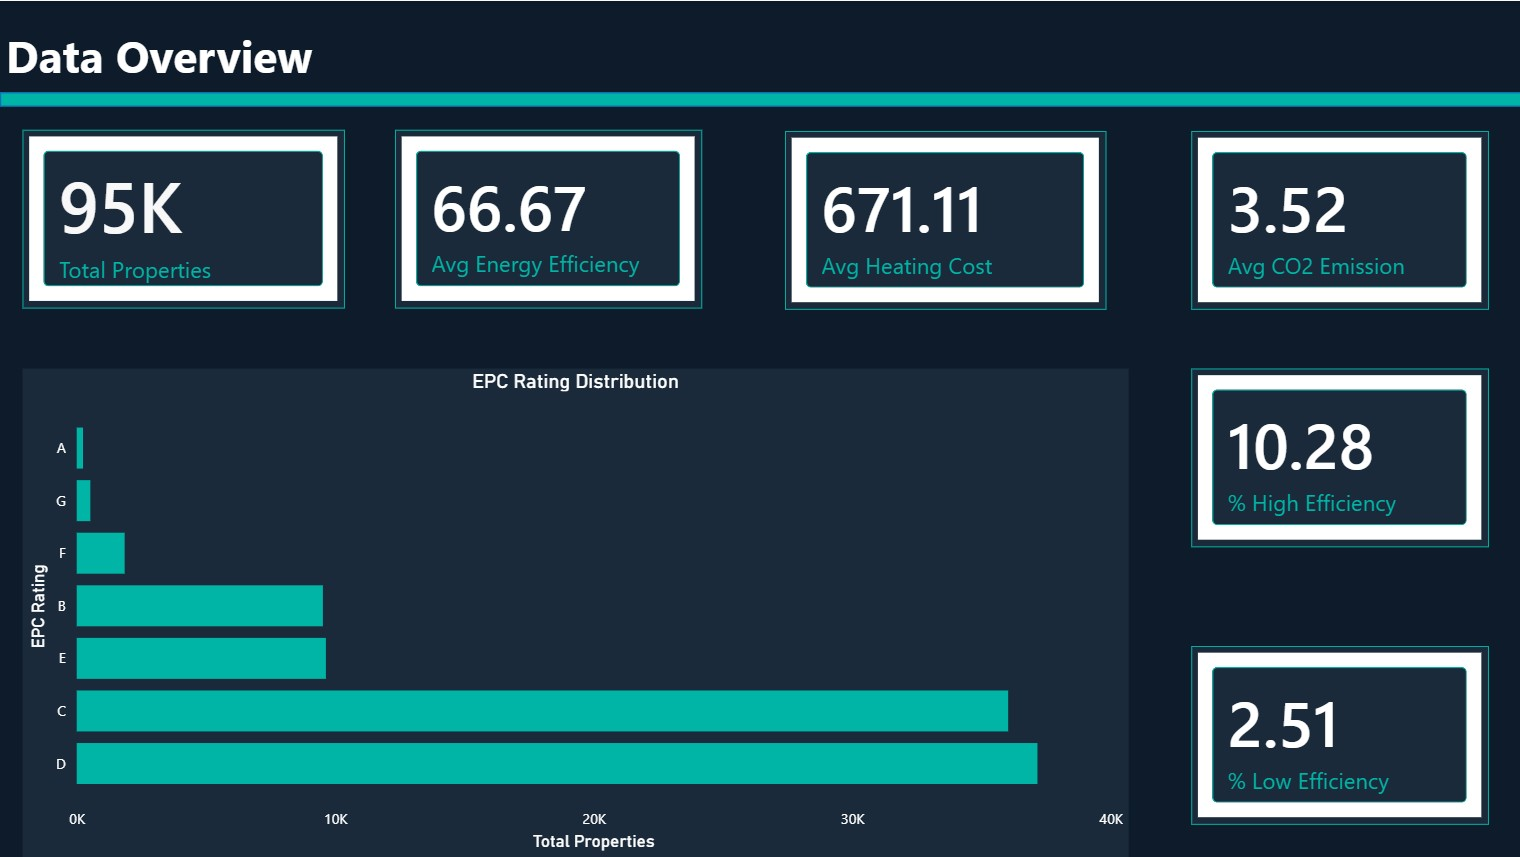

The page's visual inventory and layout, read from the dashboard file:
{"tool":"powerbi","page":{"name":"Data Overview","canvas":[1280,720],"ordinal":2},"visuals":[{"type":"textbox","box":[0,15.4,1180.7,68.4],"z":0},{"type":"shape","box":[0,77.2,1280,12.1],"z":1000},{"type":"cardVisual","fields":{"Data":["_Measures.Total Properties"]},"box":[18.9,108.3,271.3,150.4],"z":2000},{"type":"cardVisual","fields":{"Data":["_Measures.Avg Energy Efficiency"]},"box":[332.6,108.2,258.3,150.1],"z":3000},{"type":"cardVisual","fields":{"Data":["_Measures.Avg Heating Cost"]},"box":[659.8,109.5,270.4,150.1],"z":4000},{"type":"cardVisual","fields":{"Data":["_Measures.Avg CO2 Emission"]},"box":[1001.9,109.5,250.1,150.1],"z":5000},{"type":"clusteredBarChart","title":"EPC Rating Distribution","fields":{"Category":["Dim_EnergyRating.CURRENT_ENERGY_RATING"],"Y":["_Measures.Total Properties"]},"box":[18.9,309.1,930.5,411.1],"z":6000},{"type":"cardVisual","fields":{"Data":["_Measures.% High Efficiency"]},"box":[1001.9,309.6,250.1,150.1],"z":7000},{"type":"cardVisual","fields":{"Data":["_Measures.% Low Efficiency"]},"box":[1001.9,542.2,250.1,150.1],"z":8000}]}

Visuals, with their boxes in screenshot pixels (x1, y1, x2, y2), scaled from the page's 1280x720 canvas onto the 1520x857 screenshot:
textbox: l=0, t=18, r=1402, b=100
shape: l=0, t=92, r=1519, b=106
cardVisual - _Measures.Total Properties: l=22, t=129, r=345, b=308
cardVisual - _Measures.Avg Energy Efficiency: l=395, t=129, r=702, b=307
cardVisual - _Measures.Avg Heating Cost: l=784, t=130, r=1105, b=309
cardVisual - _Measures.Avg CO2 Emission: l=1190, t=130, r=1487, b=309
"EPC Rating Distribution" clusteredBarChart: l=22, t=368, r=1127, b=856
cardVisual - _Measures.% High Efficiency: l=1190, t=369, r=1487, b=547
cardVisual - _Measures.% Low Efficiency: l=1190, t=645, r=1487, b=824
